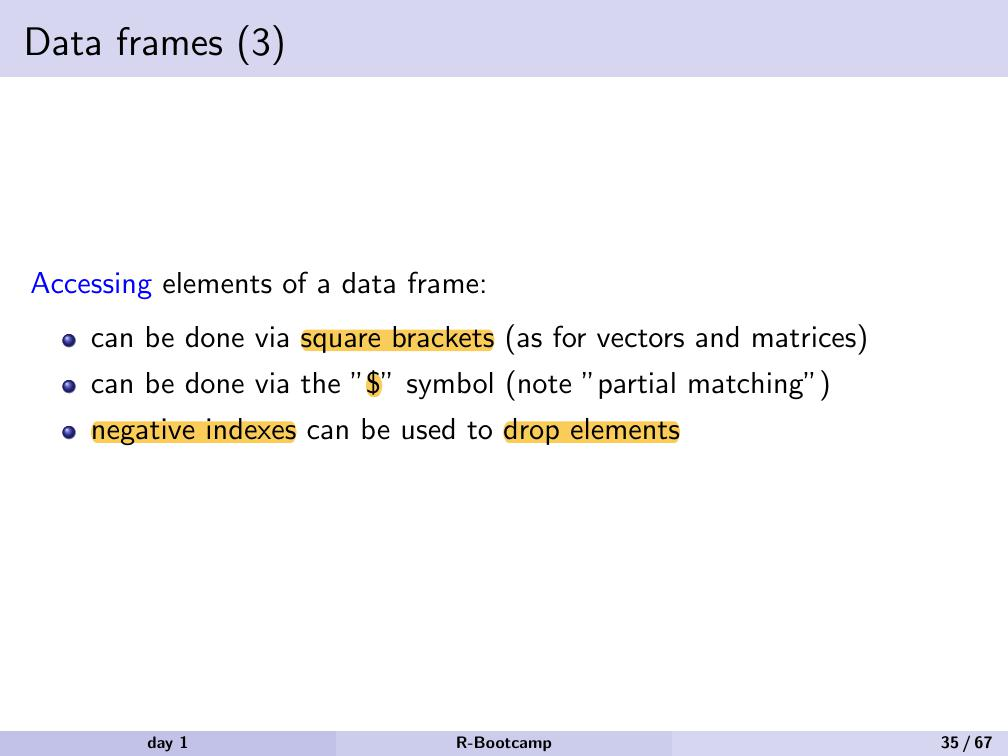Title: (13, 14, 291, 70)
